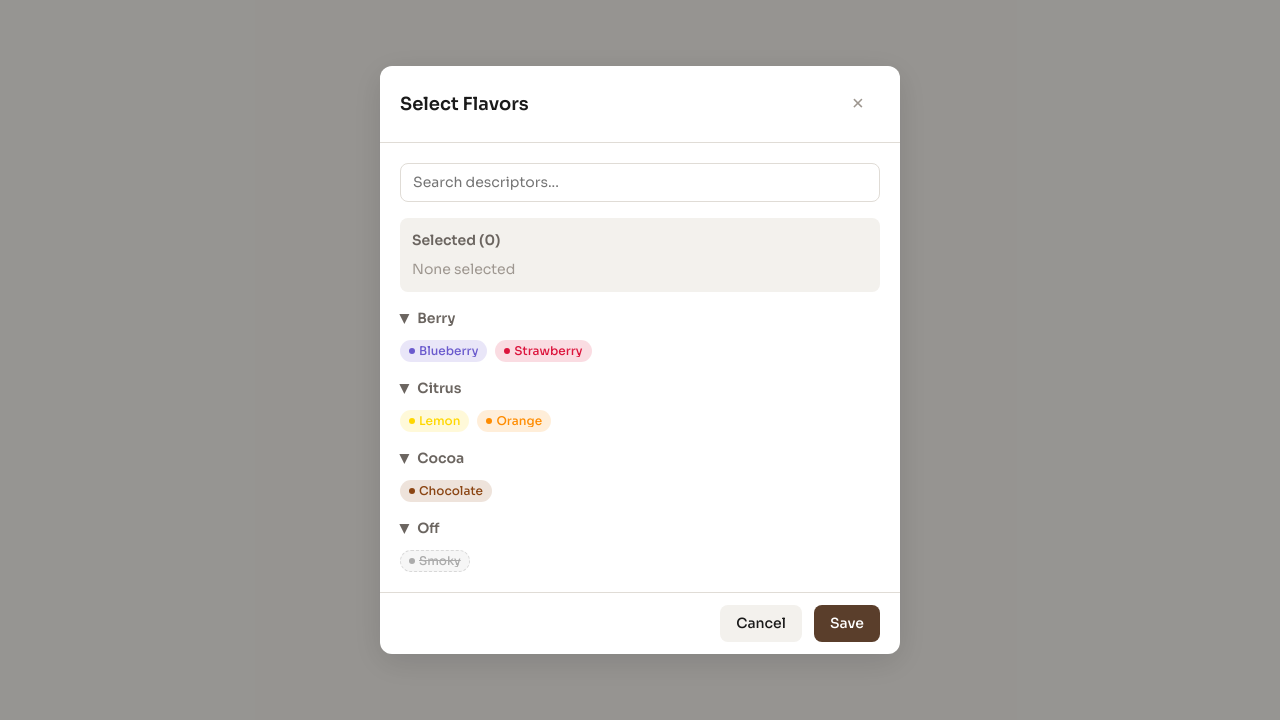
FlavorPickerModal › collapses and expands category sections
Expected: the text "Blueberry" is shown, x1=419 y1=345 x2=478 y2=357
// Find the Berry category section and its header button (aria-expanded)
Click the button "▶ Berry" at [436, 318], box x1=400 y1=308 x2=880 y2=329
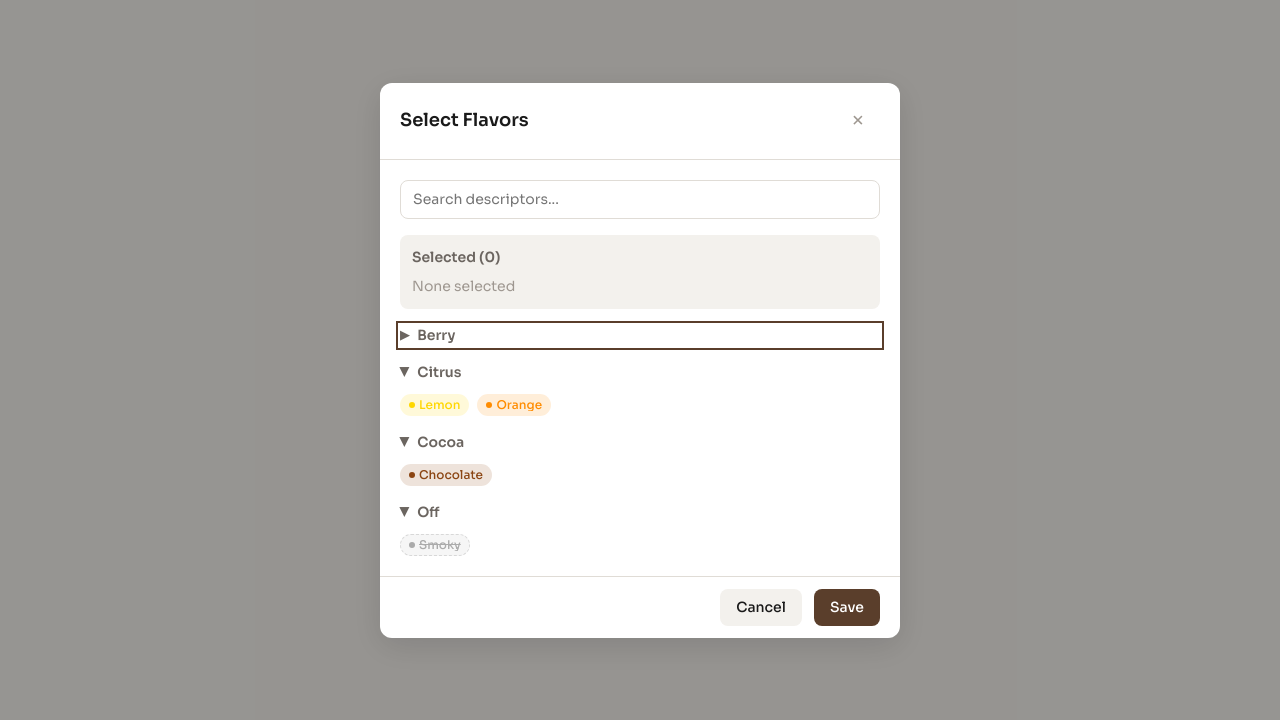
Result: the button "Blueberry" is gone
// Click again to expand
Click the button "▶ Berry" at [436, 334], box x1=400 y1=324 x2=880 y2=346
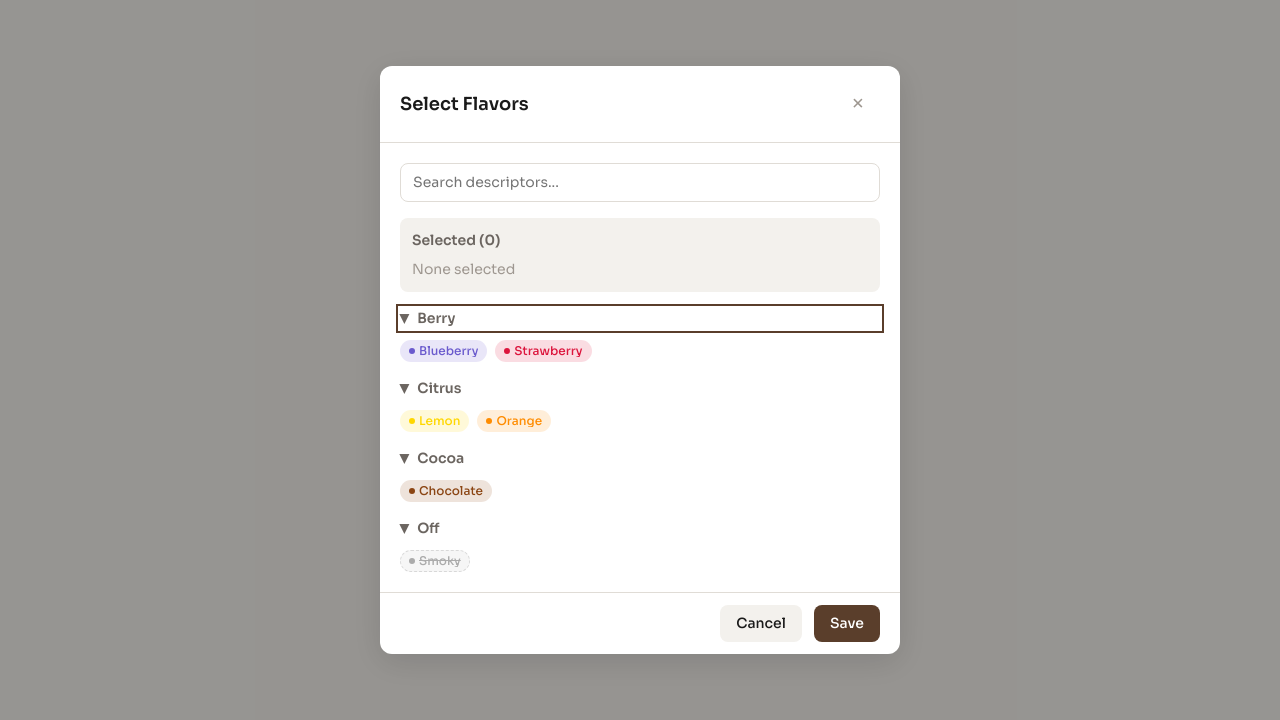
Result: the text "Blueberry" is shown at x1=419 y1=345 x2=478 y2=357
